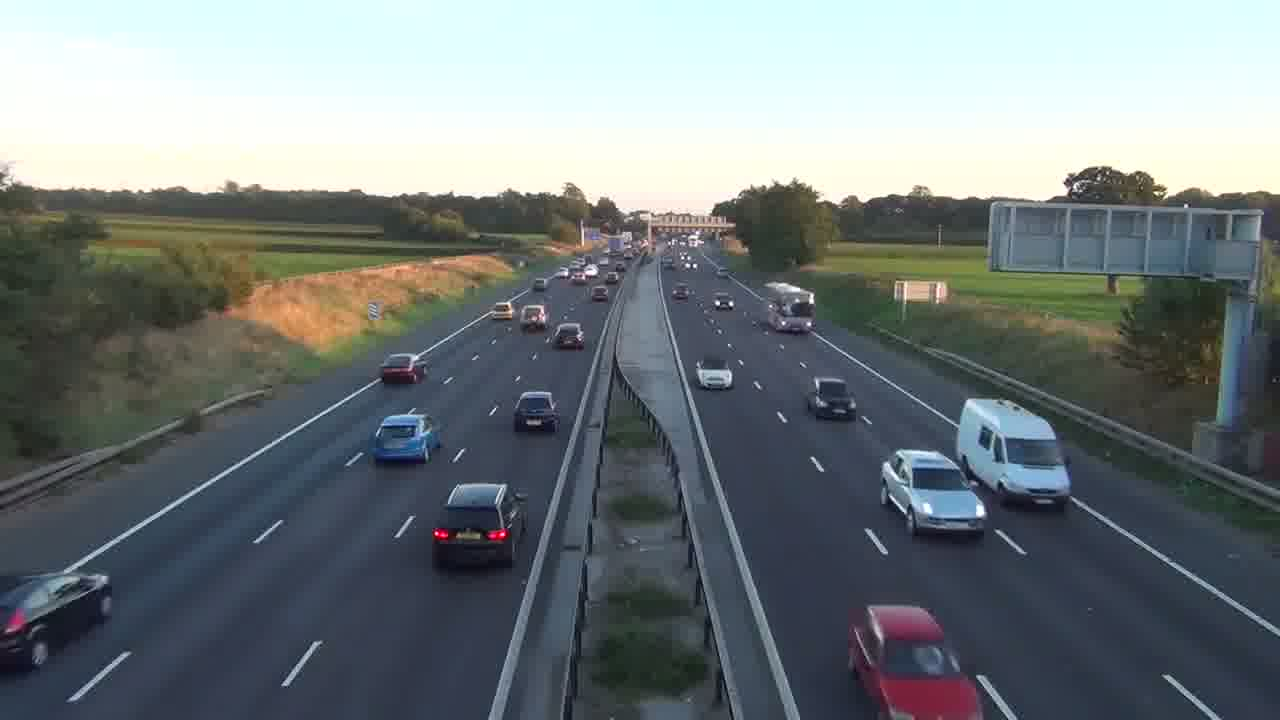car: (847, 603, 981, 719), (0, 570, 113, 671), (879, 448, 988, 538), (432, 482, 528, 569), (371, 410, 443, 465), (806, 375, 858, 421), (512, 390, 560, 431), (380, 352, 429, 384), (695, 355, 734, 390), (553, 321, 585, 350), (671, 284, 691, 301)
truck: (956, 397, 1072, 510)
